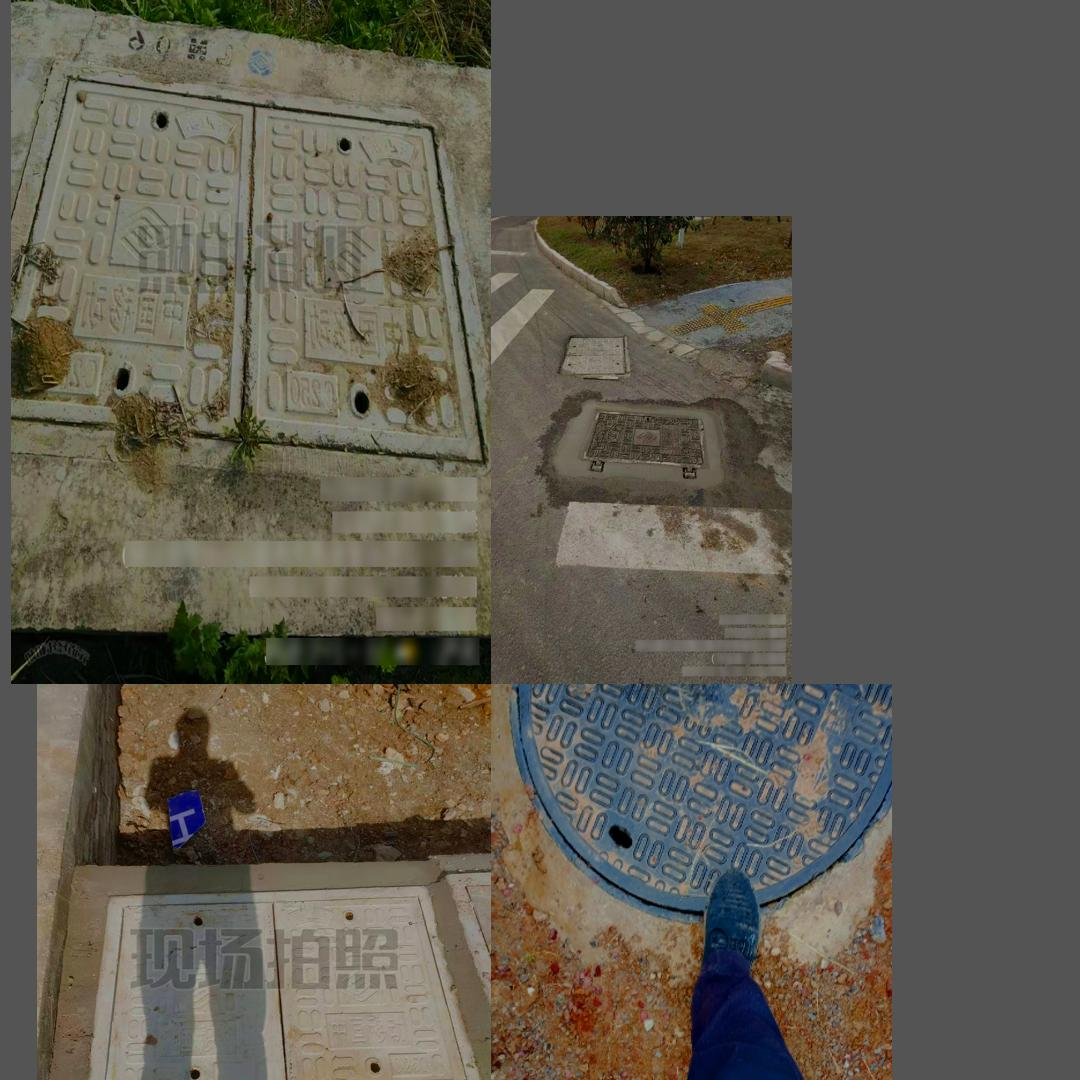good: (11, 56, 489, 483), (510, 685, 890, 926), (85, 882, 488, 1080), (578, 407, 711, 479), (557, 334, 630, 380)
